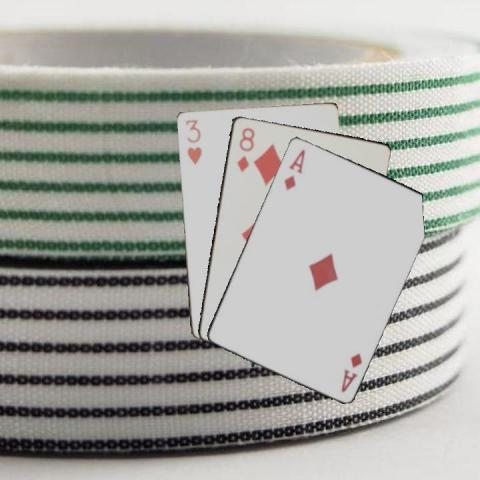3h: (183, 116, 203, 165)
8d: (233, 124, 255, 173)
Ad: (280, 146, 306, 192), (338, 349, 363, 394)
